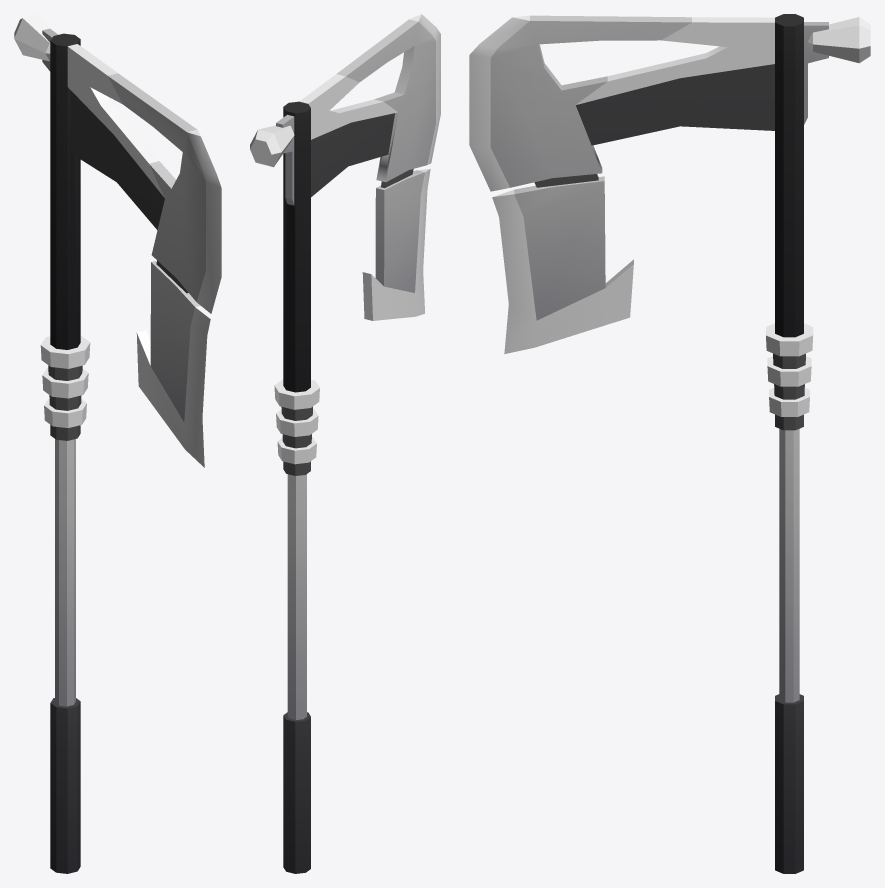
Rendered from Weapon_Axe.fbx.
3 renders of one model, left to right at view 1: azimuth 30°, elevation 25°; view 2: azimuth 150°, elevation 25°; view 3: azimuth 270°, elevation 25°, orthographic. The views are drawn at different scales.
Parts seen in each view (by area): view 1: W_AX_2; view 2: W_AX_2; view 3: W_AX_2.
Boxes of the visible parts, box(x1,y1,x2,y2) form: W_AX_2: box(14, 14, 221, 873); W_AX_2: box(250, 14, 440, 873); W_AX_2: box(469, 14, 870, 873).
Bounding box in the file's own units: 6.08 × 120 × 51.5.
